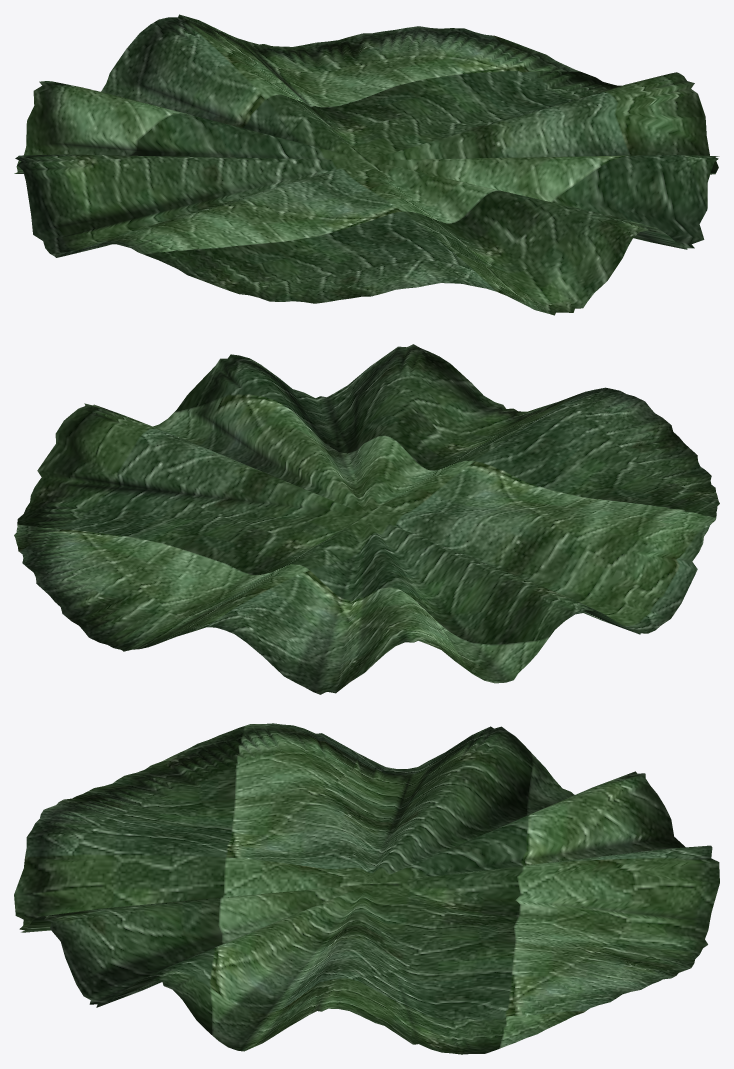
File: hamburguesa_lechuga.fbx
3 views of the same model, one above another, from view 1: azimuth 30°, elevation 25°; view 2: azimuth 150°, elevation 25°; view 3: azimuth 270°, elevation 25° (orthographic).
Parts seen in each view (by area): view 1: Lechuga; view 2: Lechuga; view 3: Lechuga.
Part boxes in pixels (bbox=[...]): Lechuga: bbox=[14, 14, 719, 315]; Lechuga: bbox=[14, 344, 719, 694]; Lechuga: bbox=[14, 723, 719, 1054].
Size of the model in its own units: 274 by 22.52 by 277.
1 material, 1 textured.
